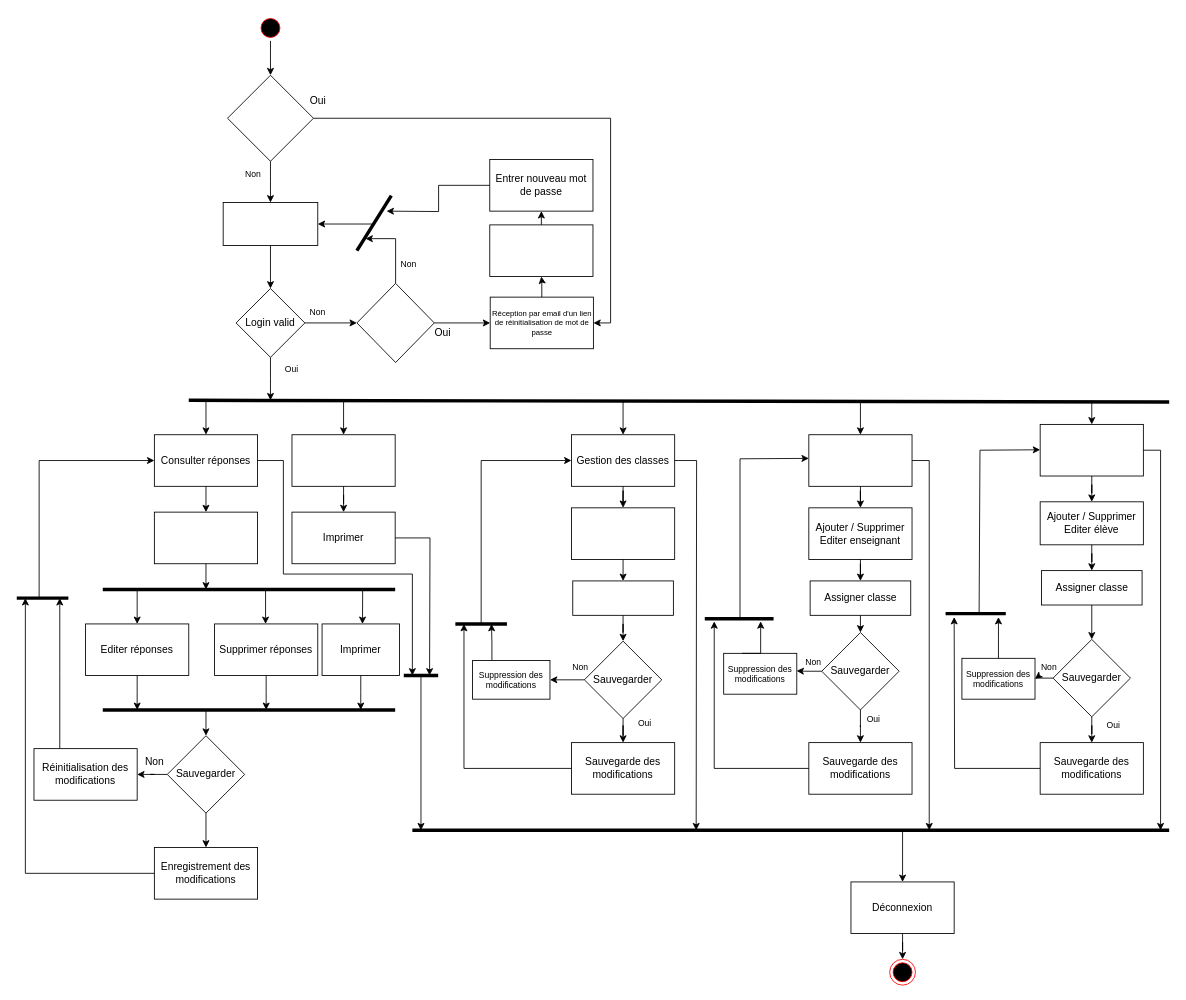
The diagram is 1186 pixels wide and 1000 high, and some of its shapes have lost their labels. Here are the shapes that lost their labels. From the top down, the centre of each, then its label:
At point 270,117: "Première utilisation".
At point 270,224: "Login".
At point 541,250: "Réinitialisation du mot de passe".
At point 395,322: "Réinitialisation du mot de pass".
At point 343,460: "Consulter Statistiques".
At point 860,460: "Gestion des enseignants".
At point 1091,450: "Gestion des élèves".
At point 206,537: "Rechercher élève".
At point 623,533: "Ajouter / Supprimer / Editer classe".
At point 622,597: "Assigner enseignant élèves".
